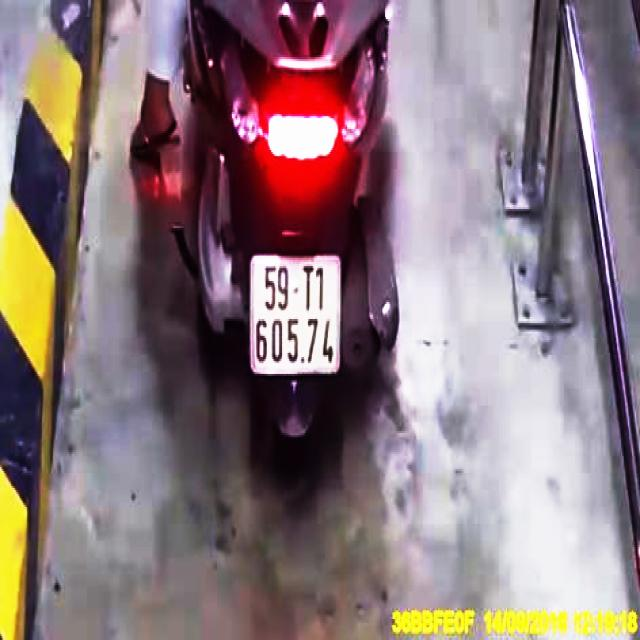license_plate: (251, 259, 346, 378)
